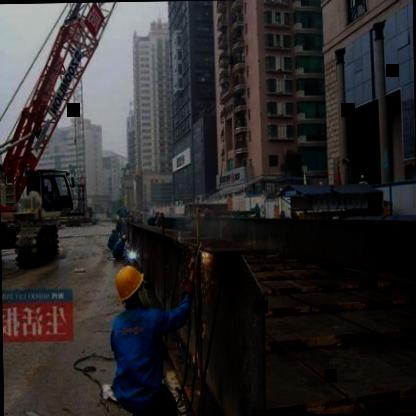helmet: (112, 262, 148, 307)
